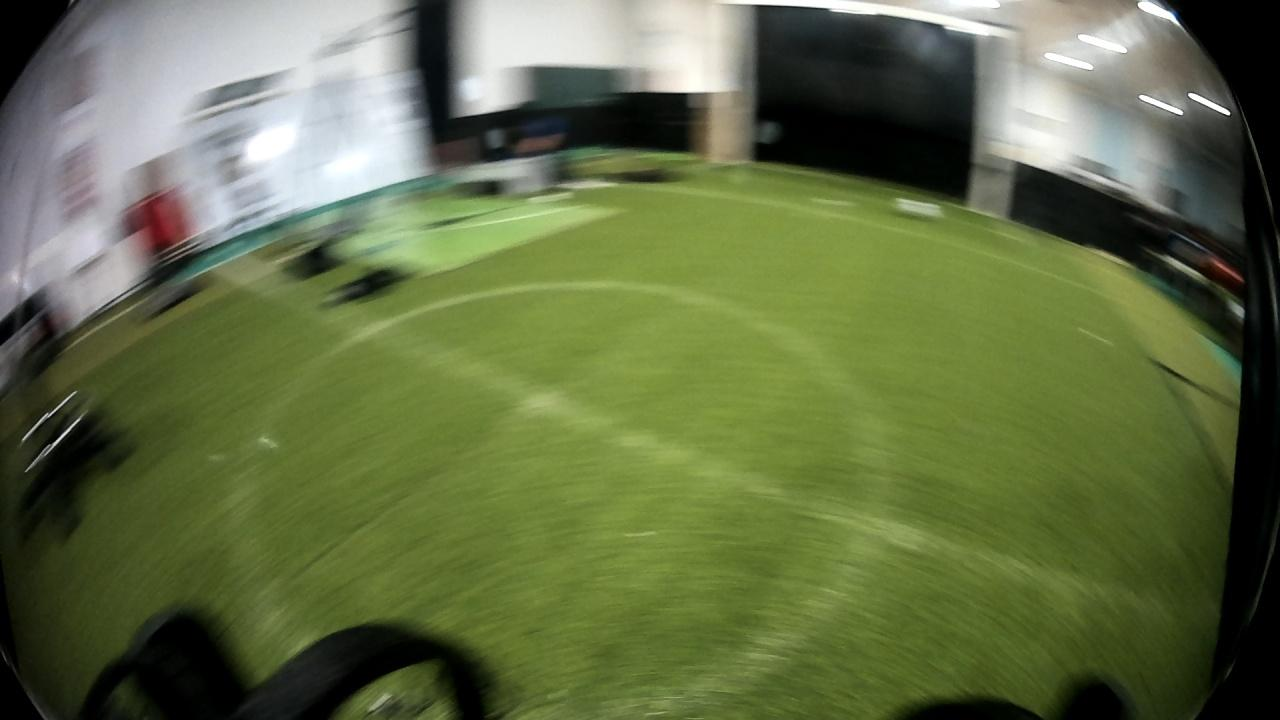ball: (891, 190, 945, 223)
